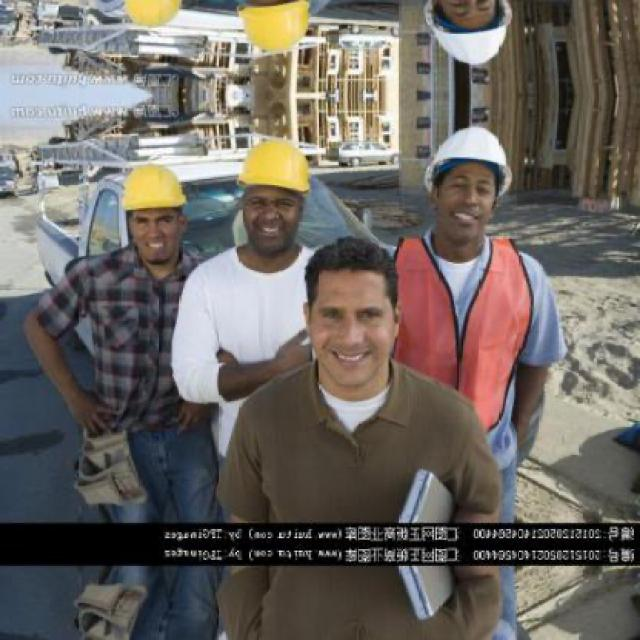helmet: (418, 109, 528, 253), (237, 130, 321, 260), (419, 0, 530, 83), (116, 156, 196, 265), (237, 0, 323, 63), (114, 0, 195, 37)
